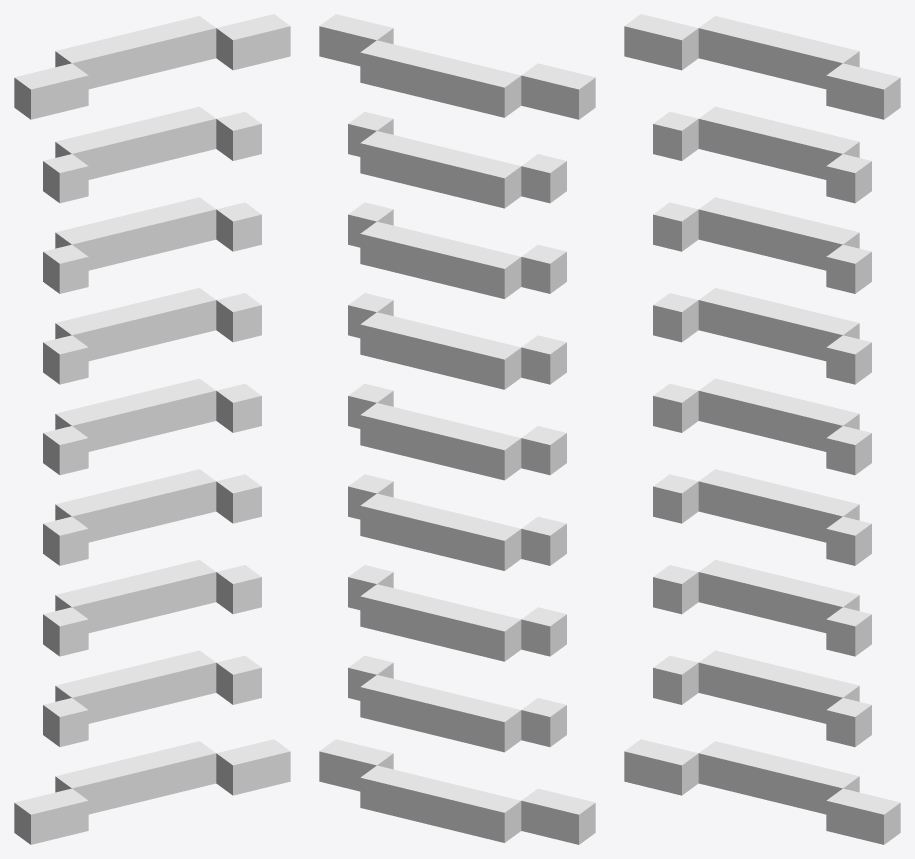
Rendered from bottle_1.fbx.
3 views of the same model, side by side, from view 1: azimuth 30°, elevation 25°; view 2: azimuth 150°, elevation 25°; view 3: azimuth 330°, elevation 25° (orthographic).
Parts seen in each view (by area): view 1: bottle_1; view 2: bottle_1; view 3: bottle_1.
Part boxes in pixels (x1,y1,x2,y2): bottle_1: (14, 14, 290, 844); bottle_1: (319, 14, 595, 844); bottle_1: (624, 14, 900, 844).
Size of the model in its own units: 9 by 25 by 2.
Materials: 1 (1 with a texture image).
